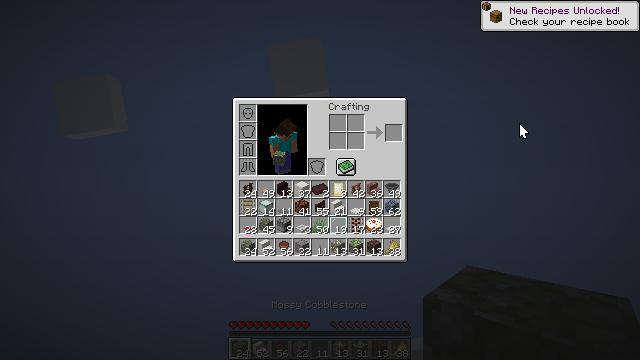cursor: (519, 123, 529, 139)
